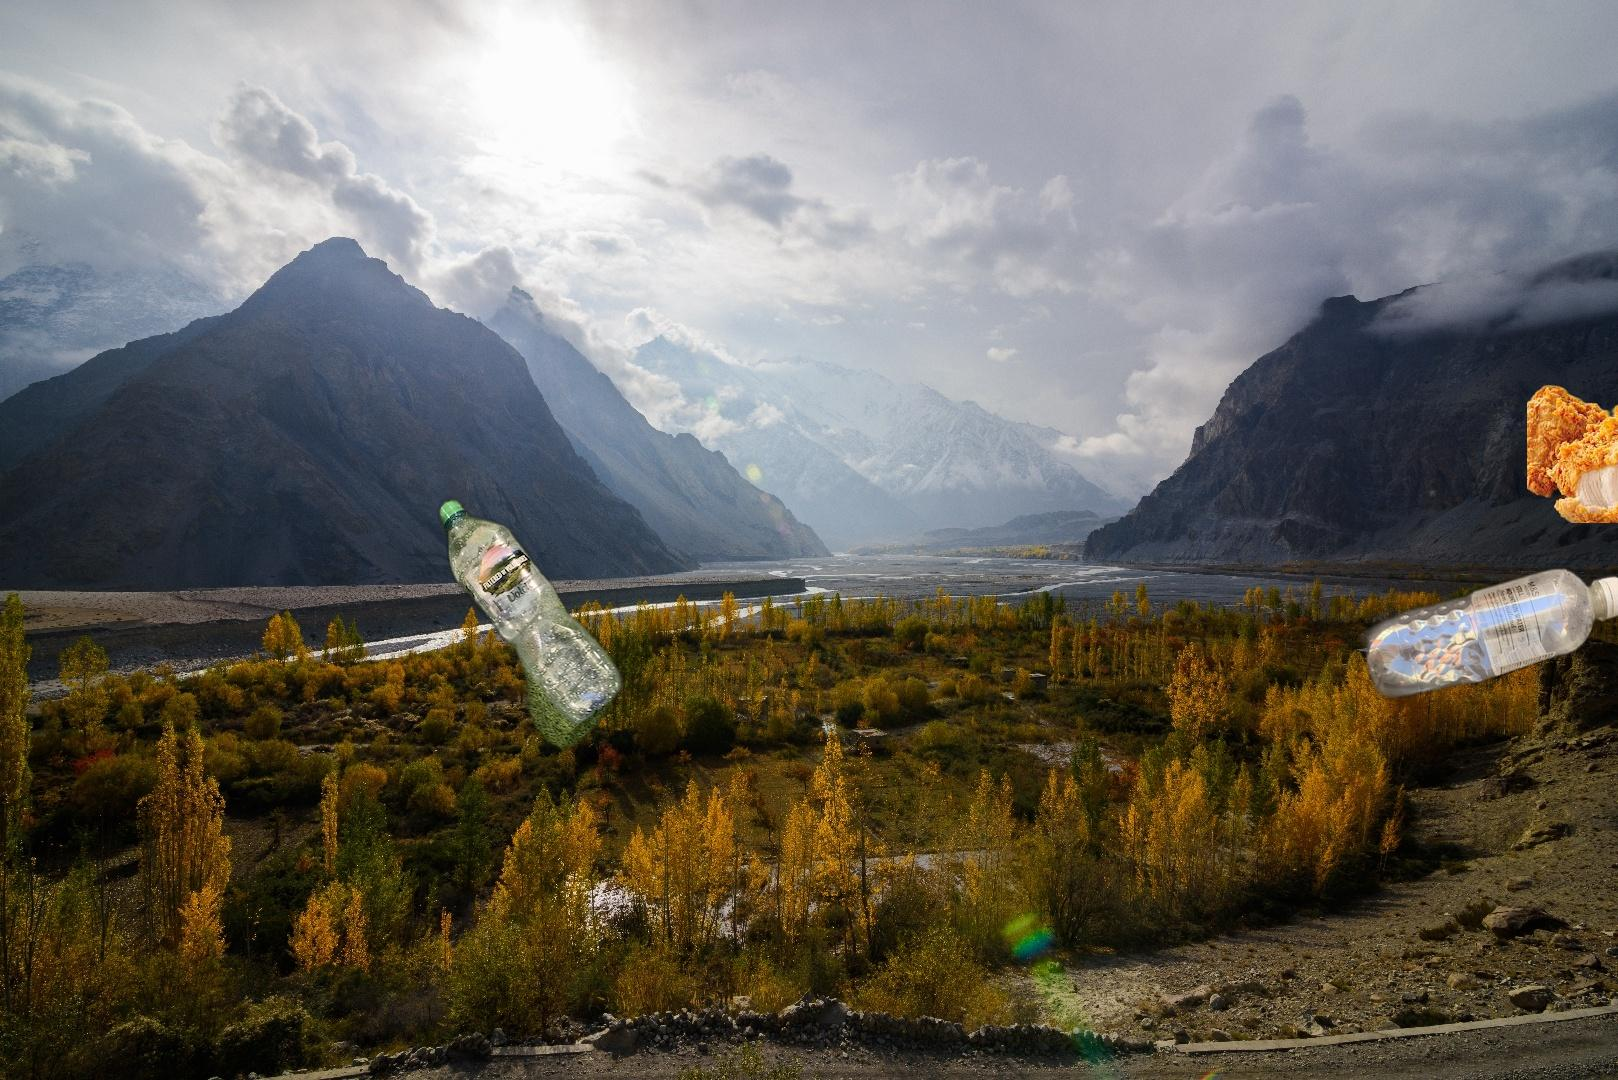biological: (1526, 368, 1618, 523)
plastic-bottles: (434, 493, 631, 756), (1357, 562, 1618, 704)
